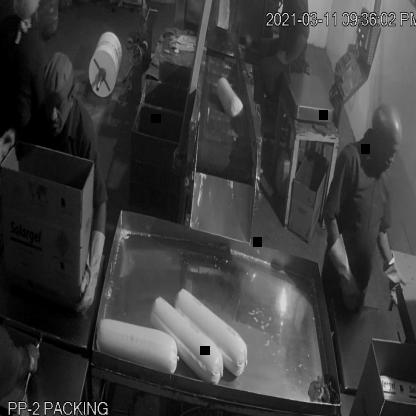glove: (74, 222, 113, 319), (328, 224, 365, 324), (380, 245, 407, 313)
no_glove: (276, 30, 310, 74)
